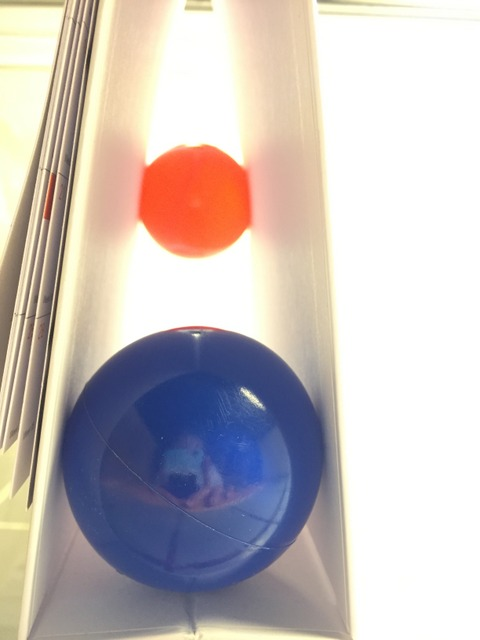Ball: (139, 145, 253, 257)
